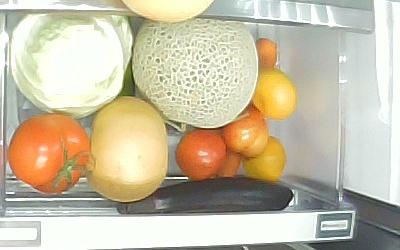cabbage: (9, 12, 135, 118)
carrot: (221, 38, 277, 178)
eggplant: (115, 177, 294, 215)
melon: (132, 19, 258, 128)
pear: (89, 94, 169, 204)
prune: (174, 129, 226, 180), (224, 106, 270, 158)
tangerine: (251, 69, 297, 120), (242, 135, 288, 184)
tomato: (7, 113, 91, 193)
